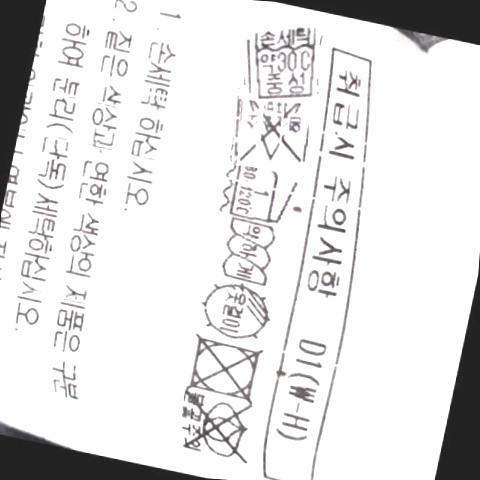DN_tumble_dry: (179, 332, 267, 402)
hand_wash: (242, 25, 325, 100)
iron_low: (224, 162, 295, 226)
line_dry_in_shade: (195, 280, 278, 342)
wring: (218, 218, 277, 287)
